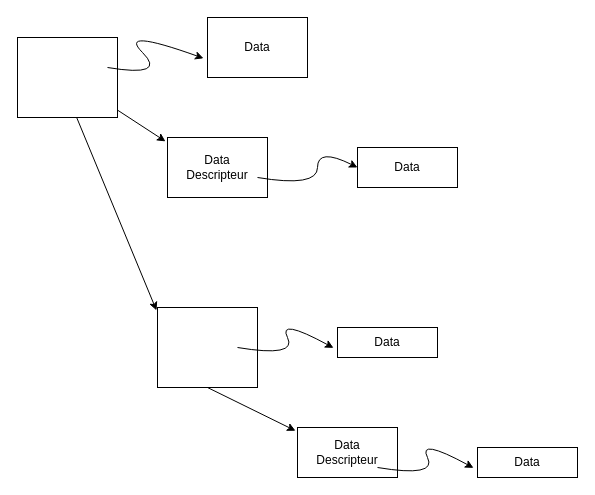
Some shapes in this 595 by 495 pixel diagram are drawn without their labels. The box of each missing label's shape, as (x1, y1, x2, y2) in pixels:
Data Descripteur Descripteur 2: (156, 306, 258, 388)
Data Descripteur Descripteur 2 Descripteur 3: (16, 36, 118, 118)
